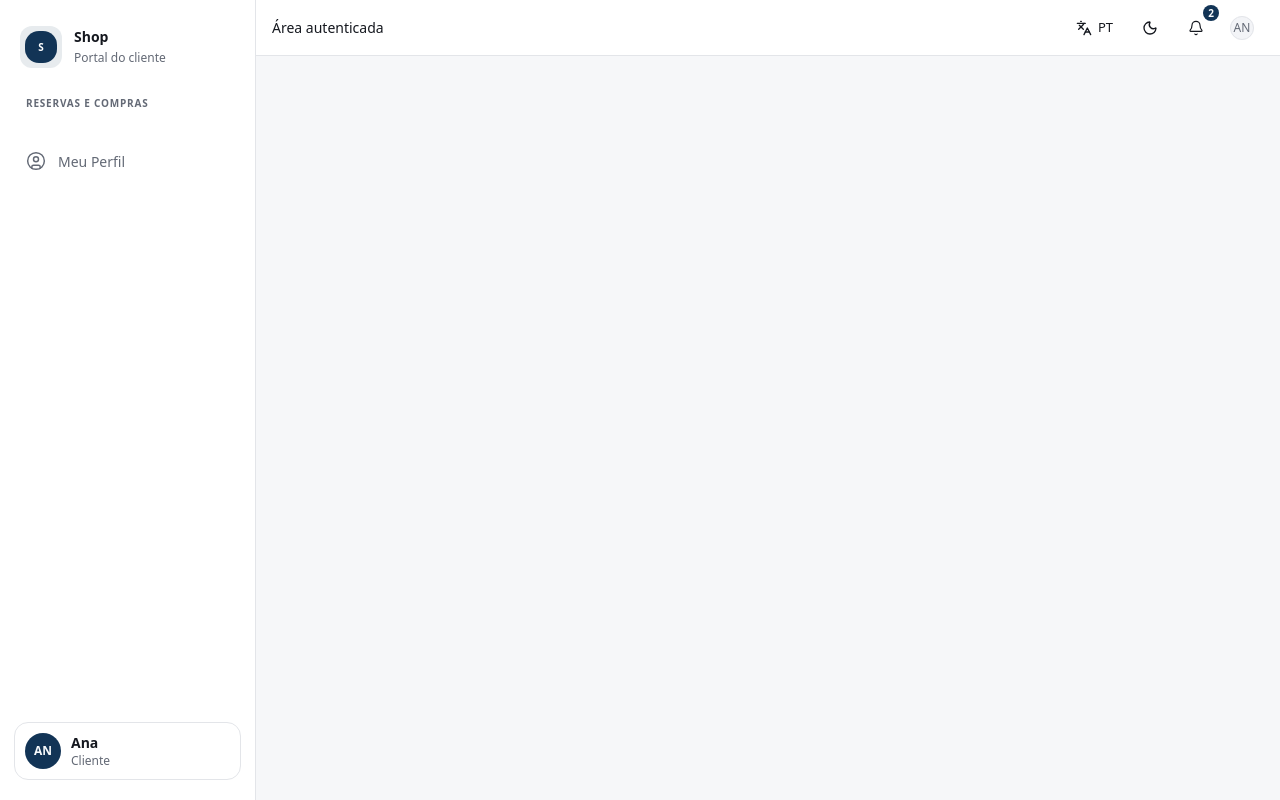
ignores a selected item's late completion after the session changes
Click the button named "Notificações: 2 não lidas".
click(1196, 28)  # box x1=1174 y1=6 x2=1218 y2=50
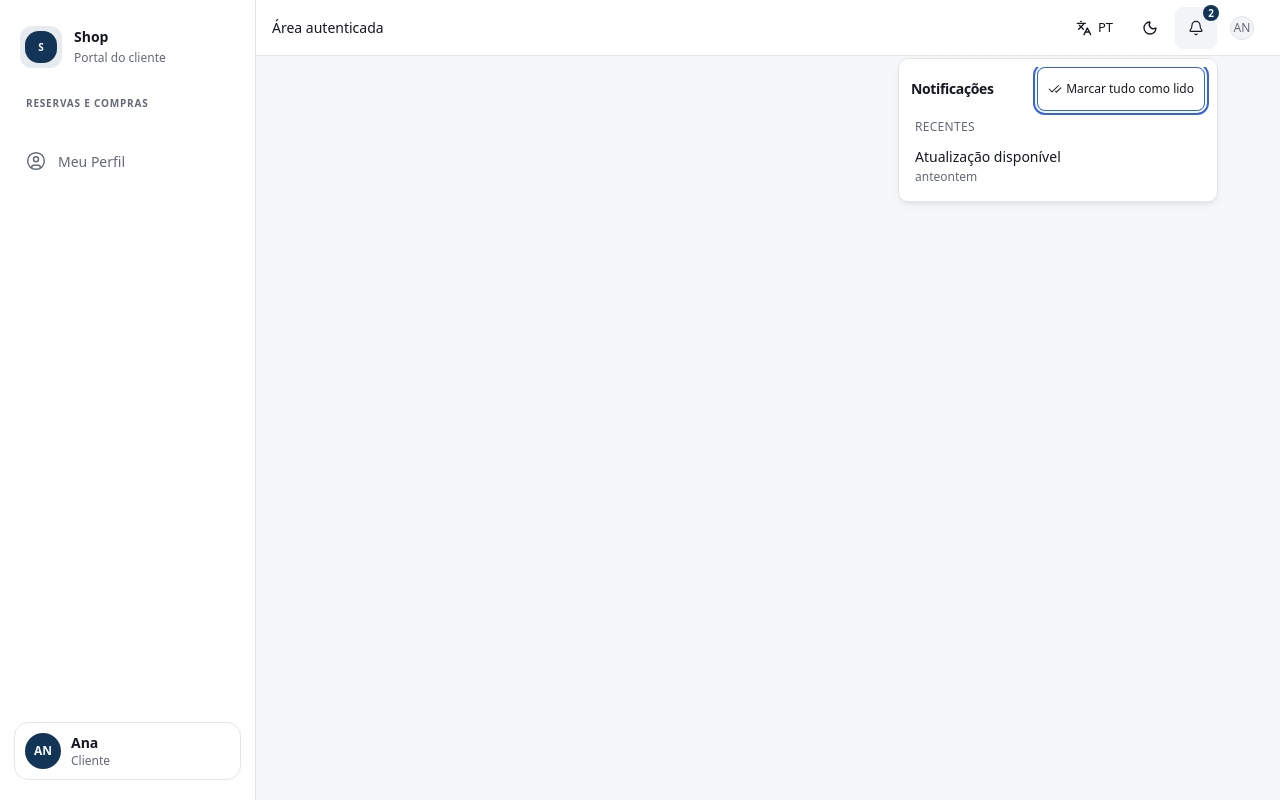
Click the button "Atualização disponível".
click(1058, 166)  # box x1=907 y1=139 x2=1209 y2=193
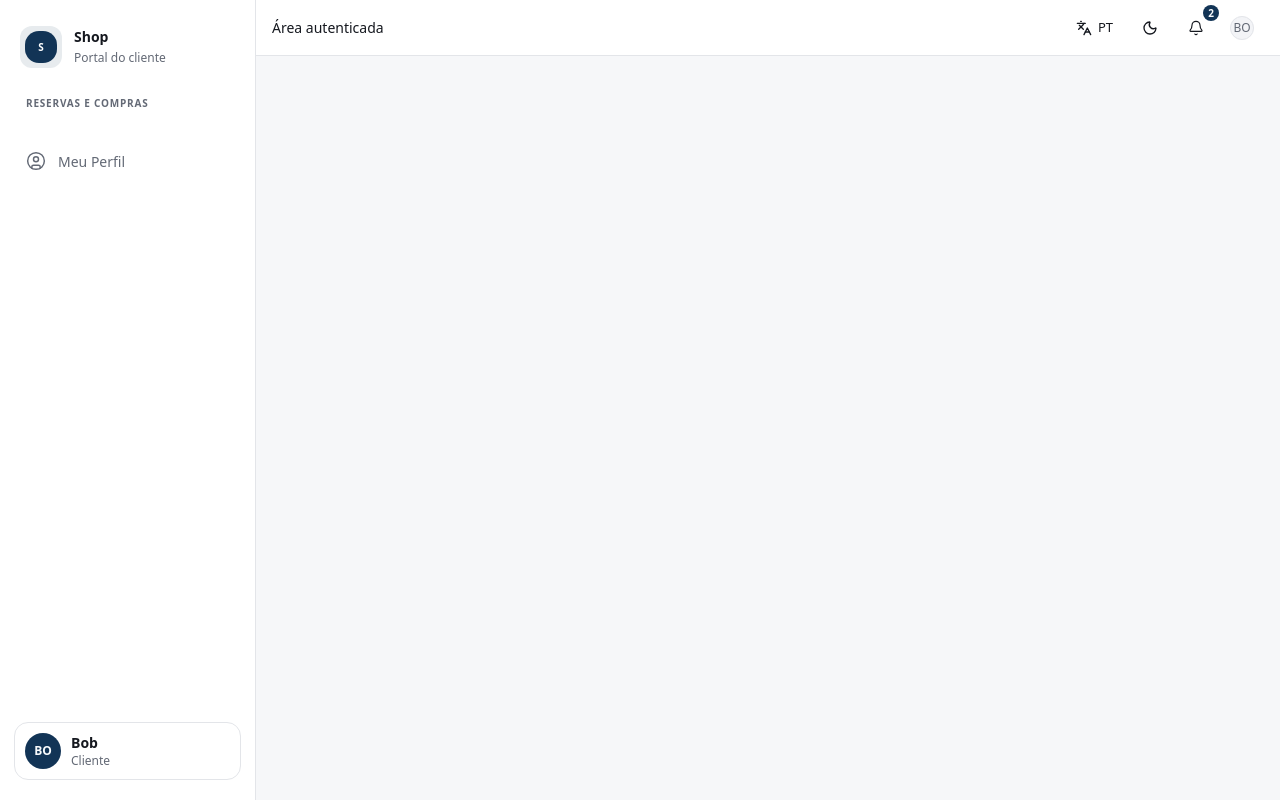
Check: the button "Atualização disponível" is gone
